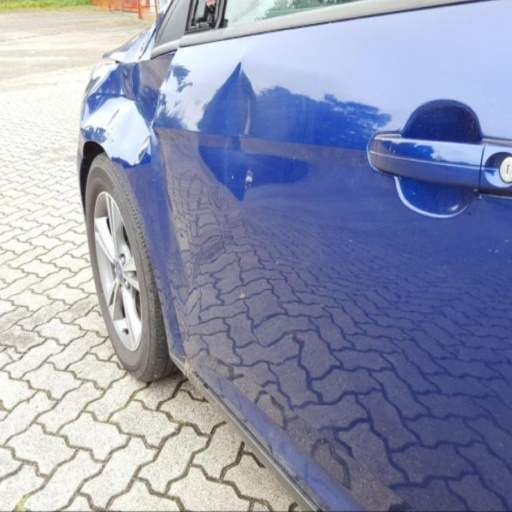dent: (81, 50, 177, 169), (197, 62, 263, 203), (104, 25, 156, 64)
scratch: (245, 170, 254, 186), (230, 174, 236, 181)
